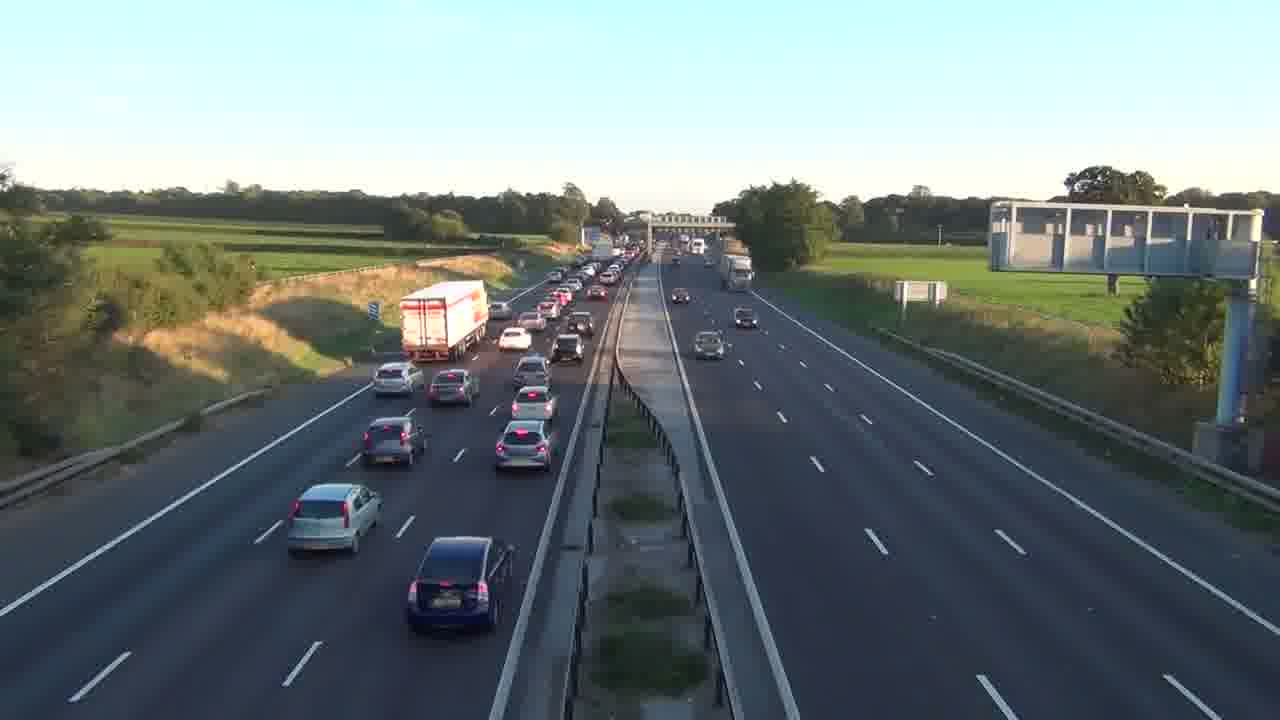car: (405, 535, 517, 634), (286, 482, 385, 556), (359, 415, 428, 467), (494, 420, 552, 472), (510, 385, 560, 422), (427, 369, 472, 406), (372, 361, 414, 397), (512, 354, 549, 387), (551, 332, 584, 363), (693, 330, 726, 360), (496, 326, 530, 352), (734, 306, 757, 328)
truck: (400, 279, 490, 362)
